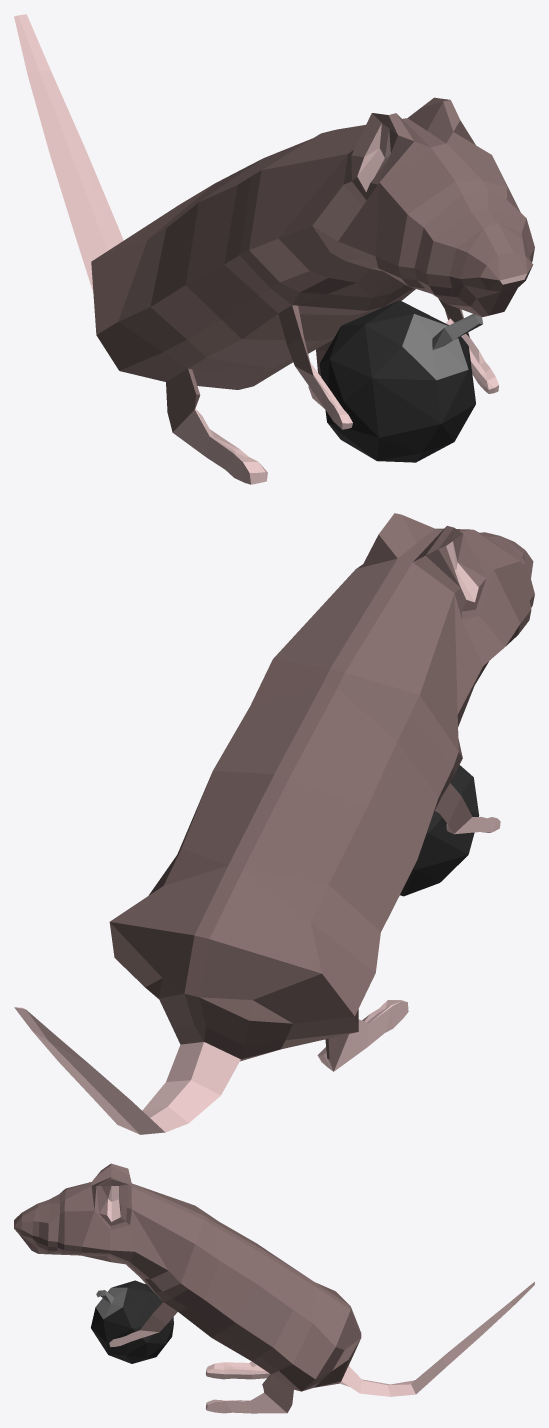
File: LongRat.fbx
3 renders of one model, top to bottom at view 1: azimuth 30°, elevation 25°; view 2: azimuth 150°, elevation 25°; view 3: azimuth 270°, elevation 25°, orthographic. The views are drawn at different scales.
Visible parts, largest first — view 1: Rat, Bomb; view 2: Rat, Bomb; view 3: Rat, Bomb.
Part boxes in pixels (x1=…): Rat: x1=14, y1=14, x2=534, y2=484; Bomb: x1=319, y1=300, x2=482, y2=462; Rat: x1=14, y1=513, x2=534, y2=1134; Bomb: x1=400, y1=765, x2=479, y2=896; Rat: x1=14, y1=1163, x2=534, y2=1413; Bomb: x1=91, y1=1280, x2=173, y2=1363.
Size of the model in its own units: 0.9639 by 1.59 by 3.36.
